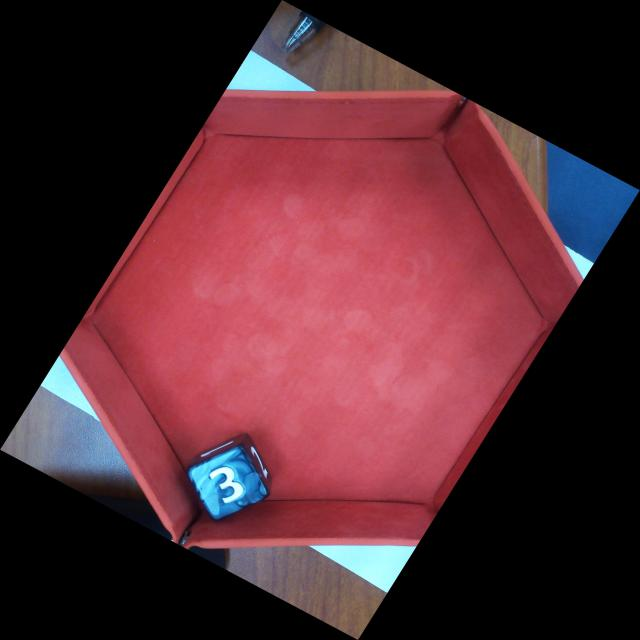dice: (184, 443, 271, 522)
